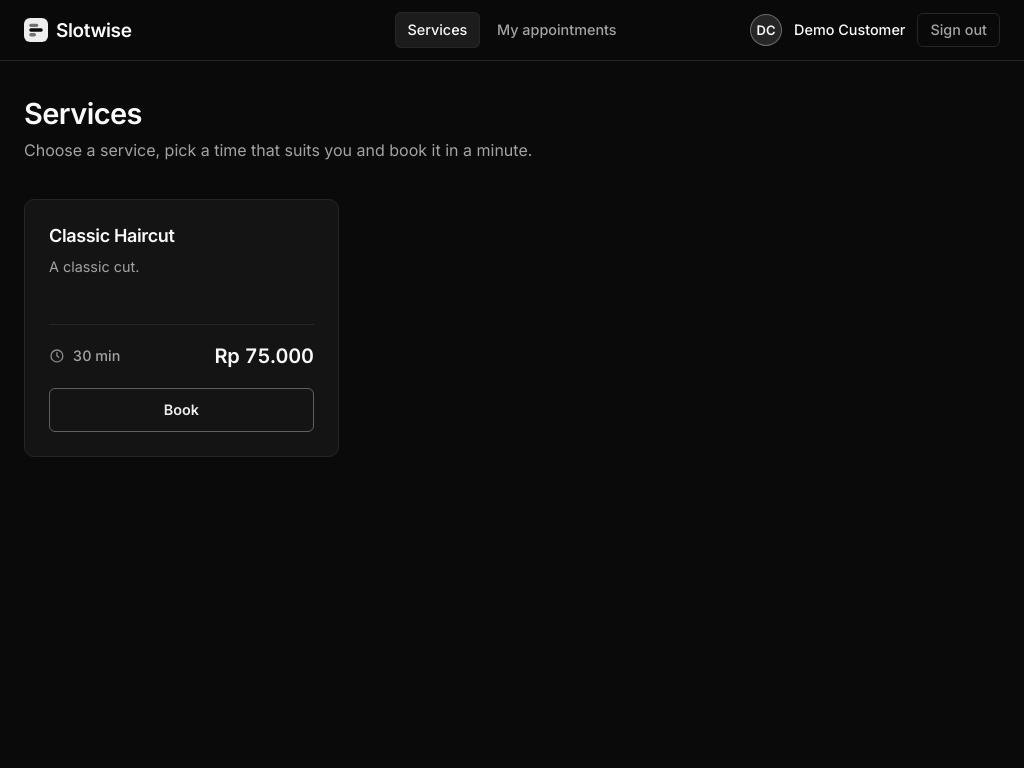
Test: App routing › signing out returns to the sign-in page
What coordinates should you click on to do the following:
click the button "Sign out"
I would click on:
 (959, 30)
Its box is [917,13,1000,47].
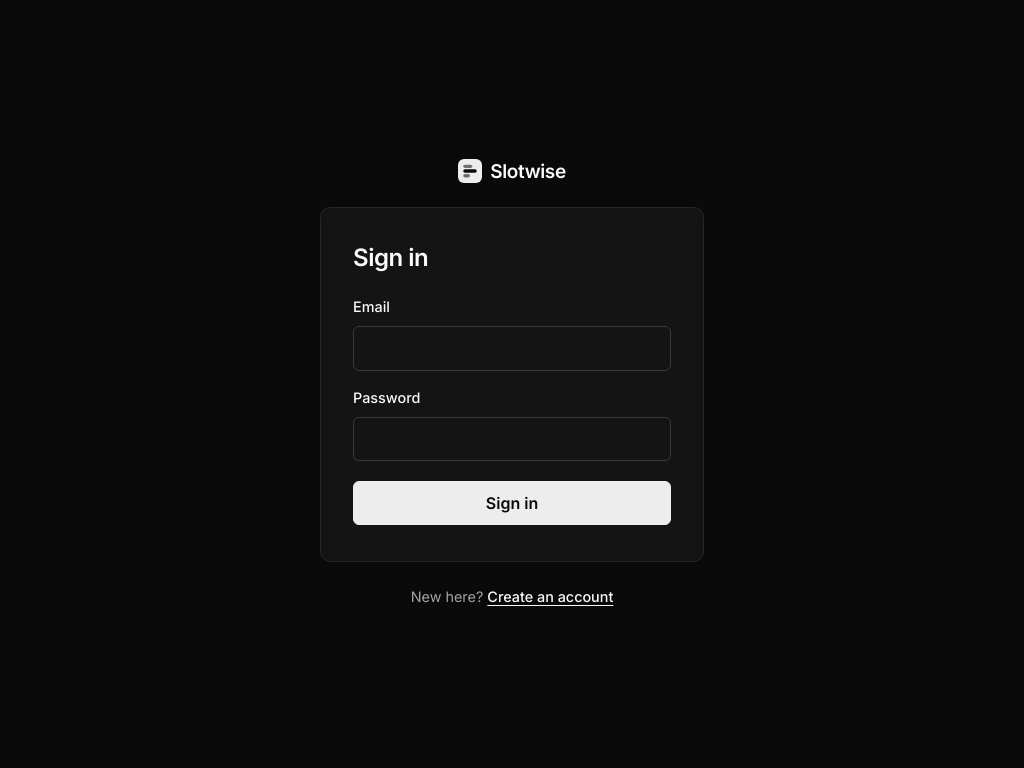
Result: the heading "Sign in" is shown at [353,243,428,272]
